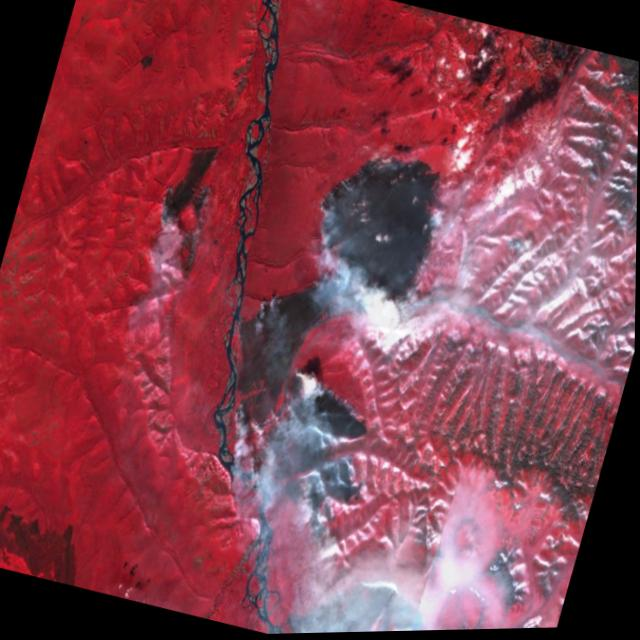fire: (285, 122, 459, 341), (203, 348, 382, 544), (142, 168, 227, 263)
